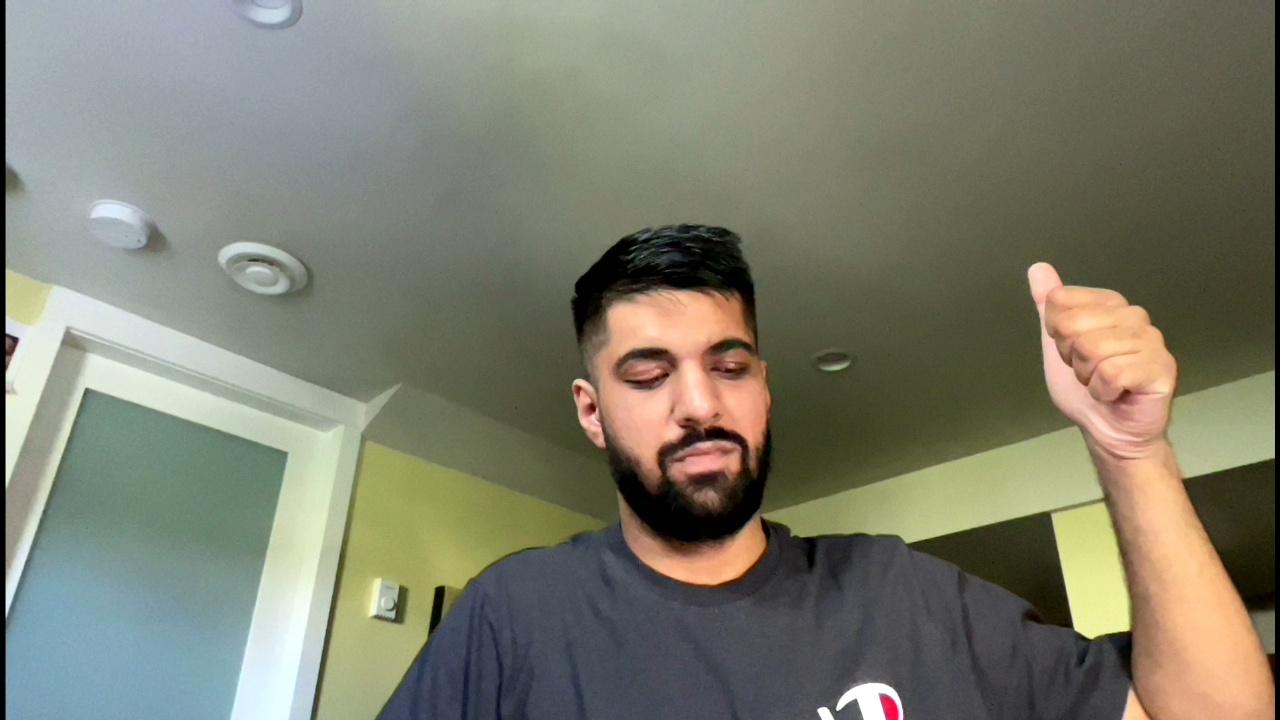Yes: (1005, 258, 1196, 443)
